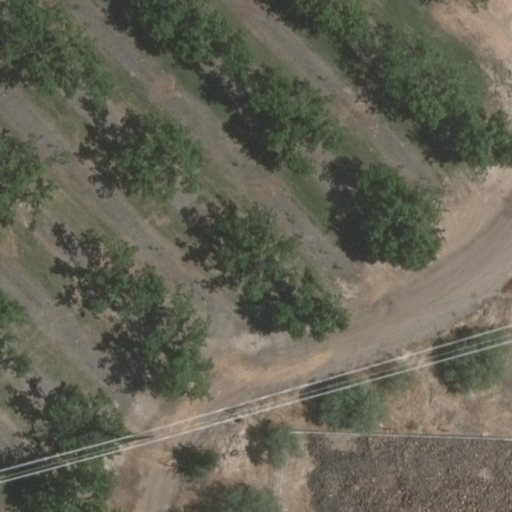DT: (111, 427, 159, 457)
